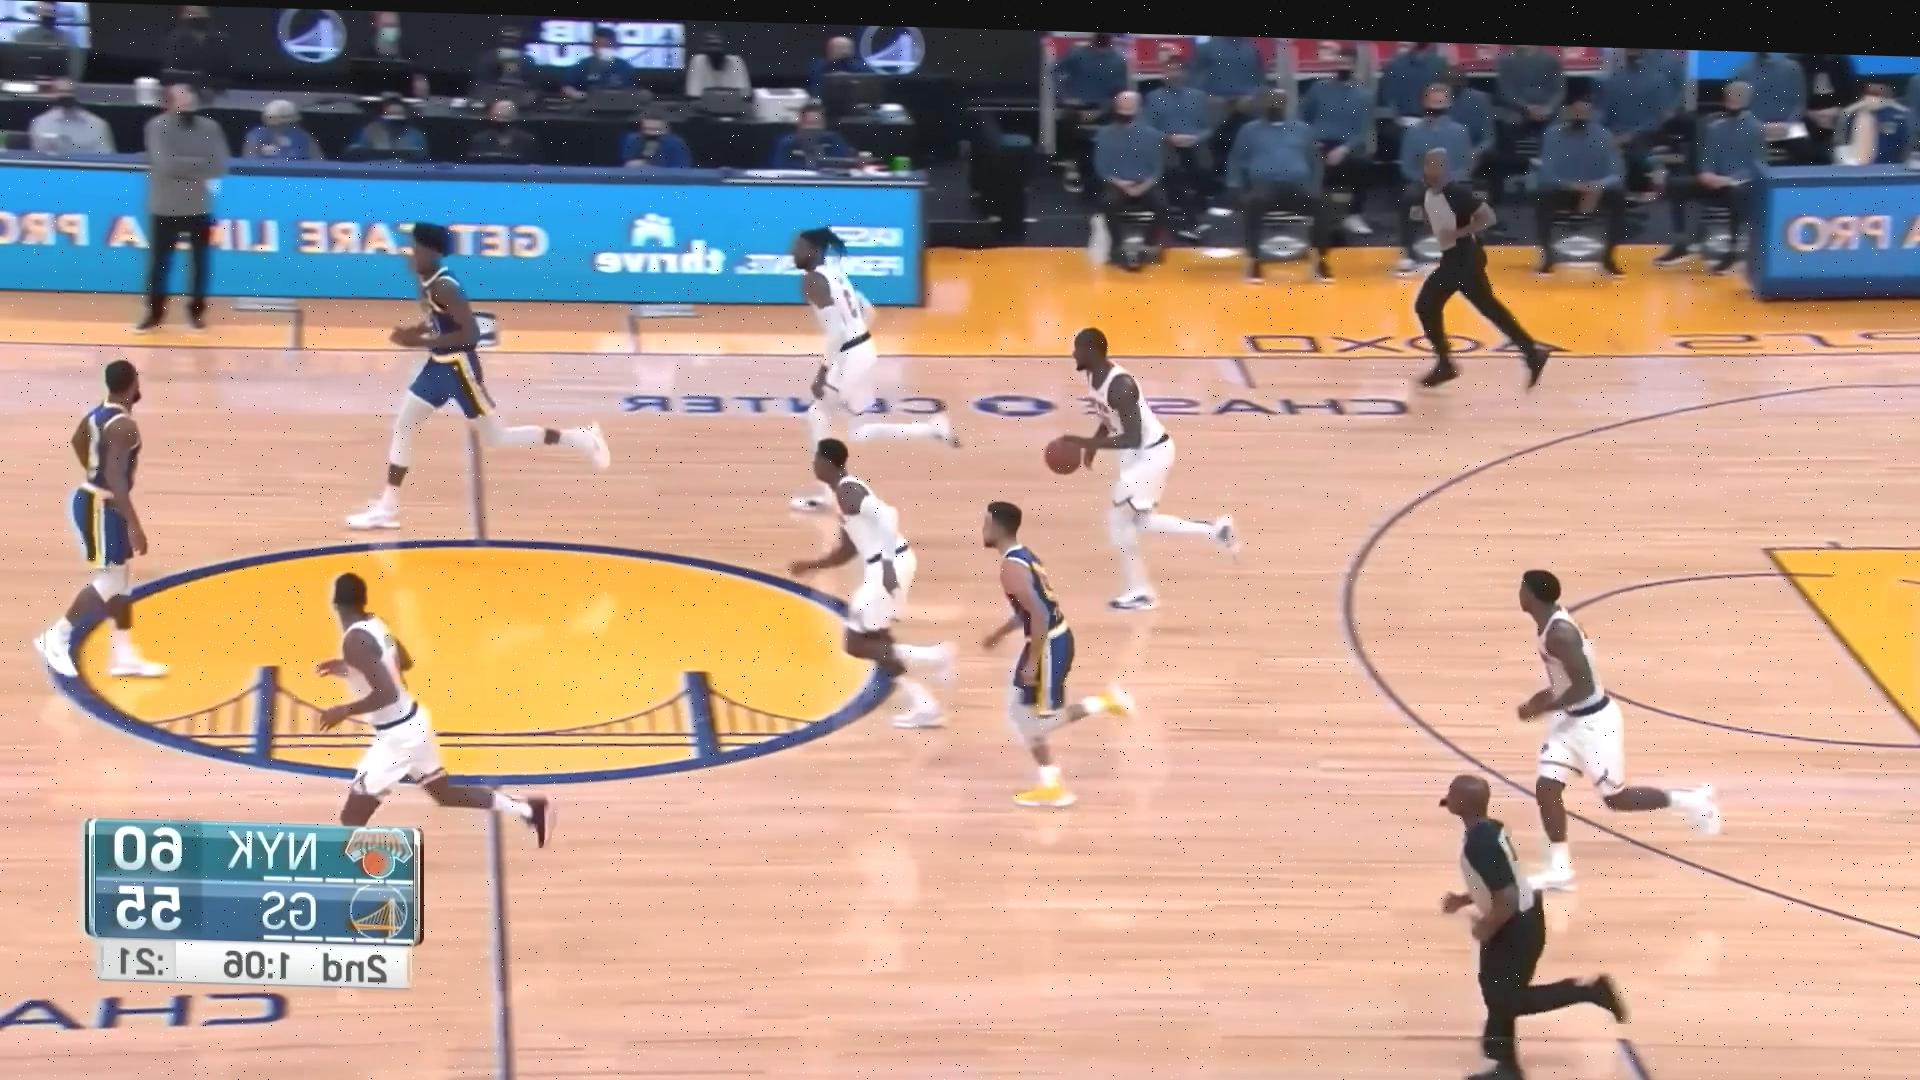no_foul: (1013, 298, 1258, 628)
